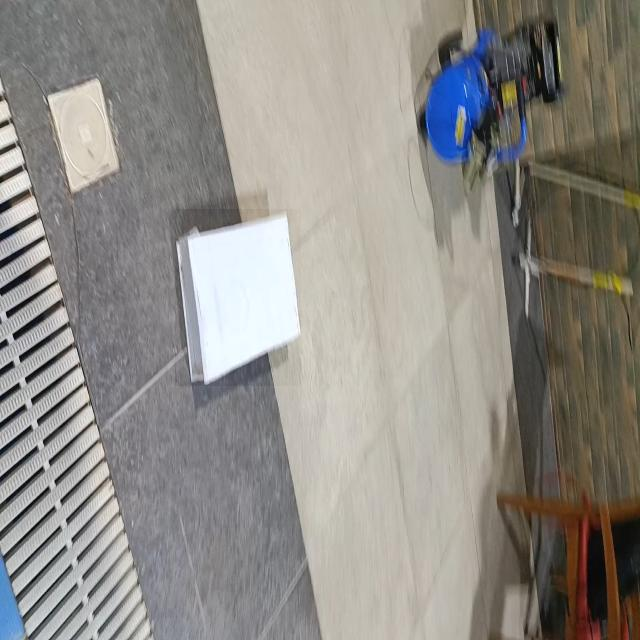Cuboid: (175, 209, 301, 386)
